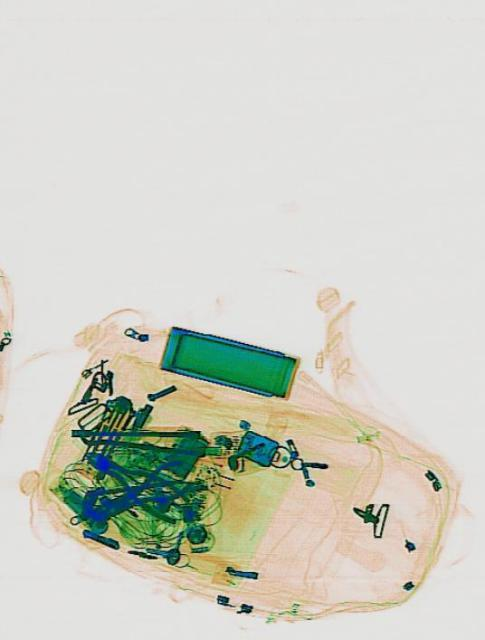Pliers: (79, 433, 191, 529), (87, 450, 197, 534)
